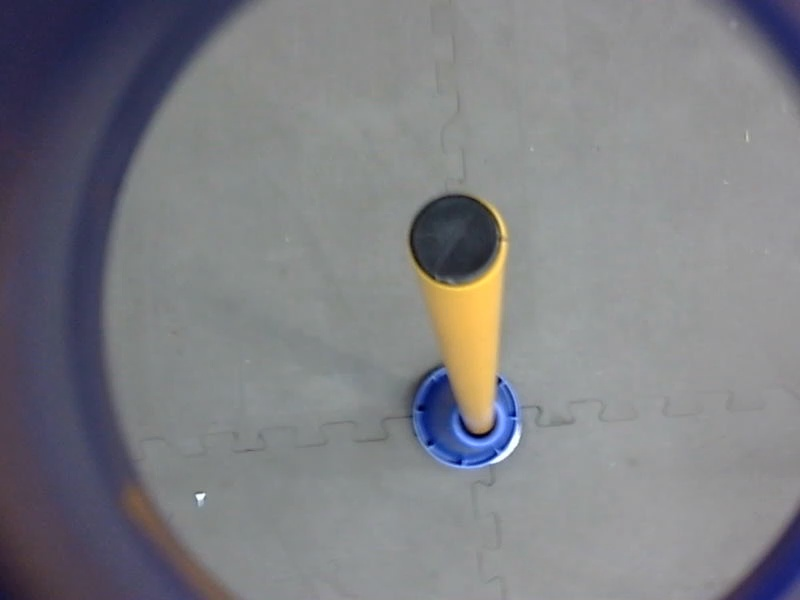tip: (397, 187, 512, 298)
